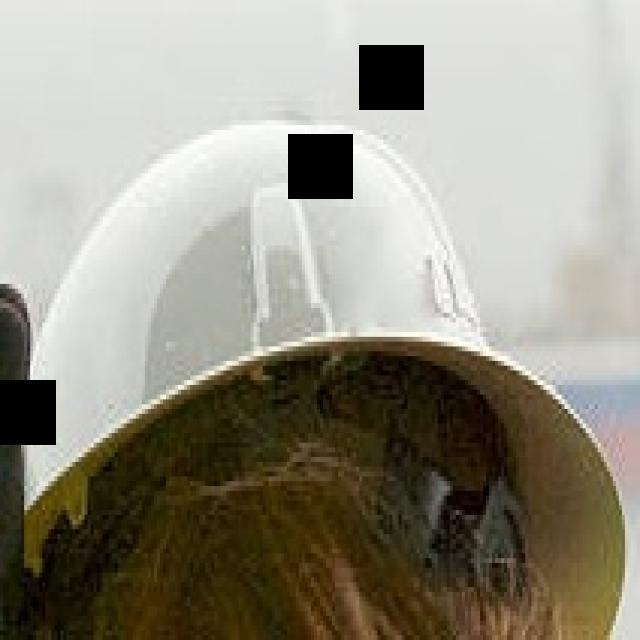white helmet: (6, 110, 640, 640)
